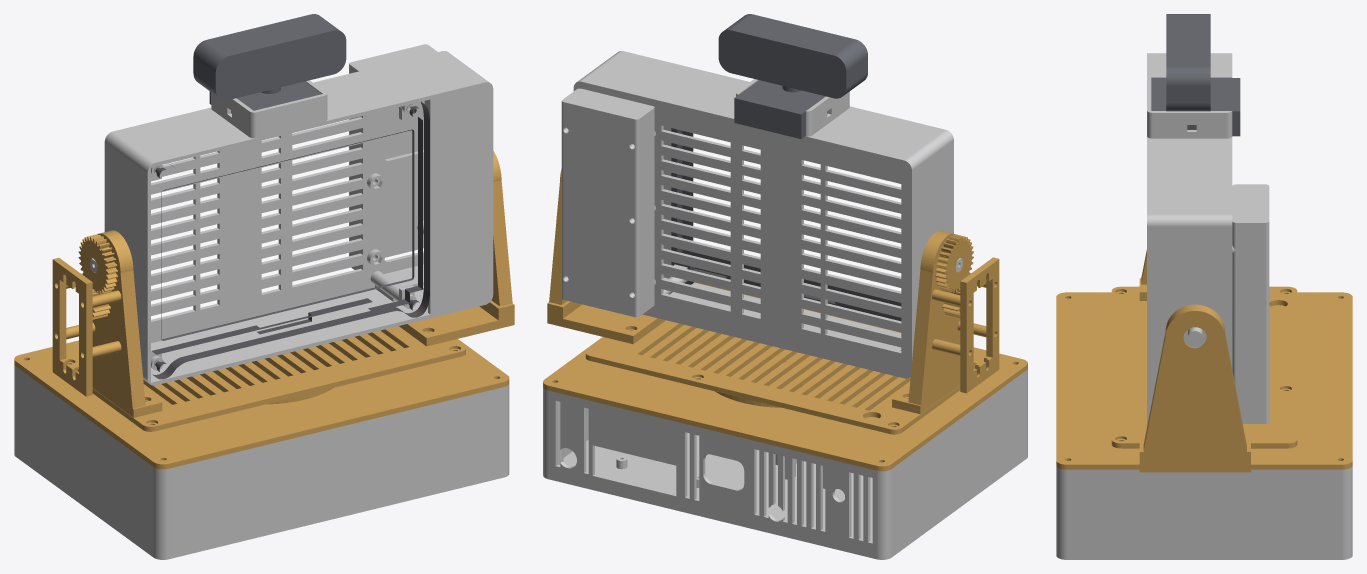
File: xiaozhi_robot.glb
3 renders of one model, left to right at view 1: azimuth 30°, elevation 25°; view 2: azimuth 150°, elevation 25°; view 3: azimuth 270°, elevation 25°, orthographic. The views are drawn at different scales.
Parts seen in each view (by area): view 1: head_shell, base, base_top, rotor_plate, webcam, bezel, arm_left, cable_duct, tilt_servo_bracket, arm_right, tilt_gear_30T; view 2: head_shell, base, cable_duct, base_top, rotor_plate, webcam, arm_left, tilt_servo_bracket, arm_right, bezel, tilt_gear_30T, pan_turntable_24T; view 3: base, base_top, head_shell, arm_right, rotor_plate, cable_duct, webcam.
Part boxes in pixels (<box>): head_shell: <box>90,51,493,385</box>; base: <box>14,359,509,559</box>; base_top: <box>14,330,509,469</box>; rotor_plate: <box>66,326,465,431</box>; webcam: <box>193,14,346,113</box>; bezel: <box>151,102,429,379</box>; arm_left: <box>77,230,162,417</box>; cable_duct: <box>349,44,437,269</box>; tilt_servo_bracket: <box>52,257,121,396</box>; arm_right: <box>399,151,514,346</box>; tilt_gear_30T: <box>78,234,117,294</box>; head_shell: <box>573,51,962,378</box>; base: <box>543,363,1027,559</box>; cable_duct: <box>561,88,655,317</box>; base_top: <box>543,282,1027,471</box>; rotor_plate: <box>585,320,977,434</box>; webcam: <box>718,14,867,139</box>; arm_left: <box>892,230,974,413</box>; tilt_servo_bracket: <box>932,257,999,393</box>; arm_right: <box>547,169,665,344</box>; bezel: <box>671,128,901,321</box>; tilt_gear_30T: <box>935,234,973,293</box>; pan_turntable_24T: <box>702,337,868,407</box>; base: <box>1056,466,1352,559</box>; base_top: <box>1056,292,1352,469</box>; head_shell: <box>1147,53,1232,426</box>; arm_right: <box>1139,304,1250,472</box>; rotor_plate: <box>1111,286,1297,448</box>; cable_duct: <box>1232,184,1269,423</box>; webcam: <box>1151,14,1240,136</box>.
Size of the model in its own units: 259 by 258 by 160.
